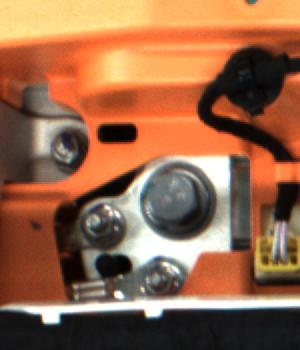nut_b: (134, 159, 216, 240)
